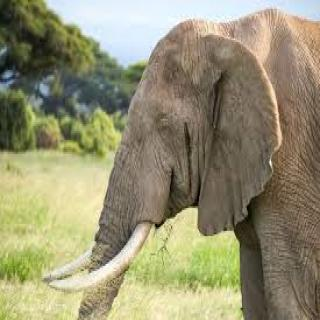Elephant: (43, 7, 320, 320)
